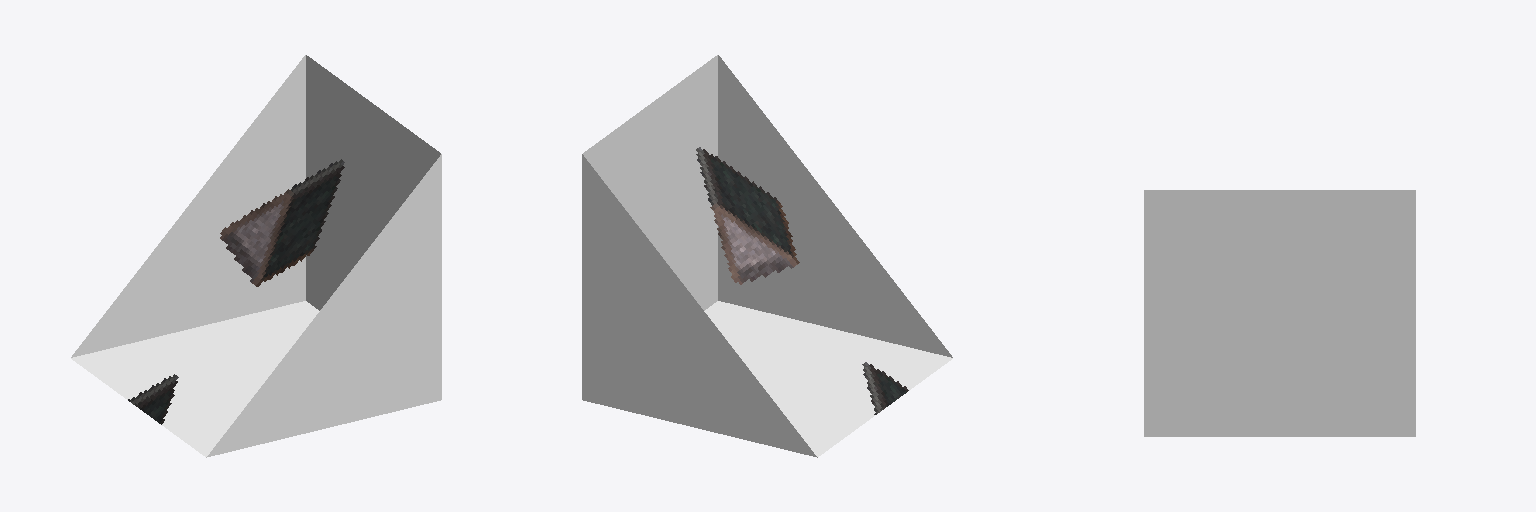
The picture shows the model from 3 angles: view 1: azimuth 30°, elevation 25°; view 2: azimuth 150°, elevation 25°; view 3: azimuth 270°, elevation 25°; orthographic projection.
Parts seen in each view (by area): view 1: roof-high-side; view 2: roof-high-side; view 3: roof-high-side.
Part boxes in pixels (bbox=[...]): roof-high-side: bbox=[71, 55, 441, 457]; roof-high-side: bbox=[582, 55, 952, 457]; roof-high-side: bbox=[1144, 190, 1415, 436].
Size of the model in its own units: 1 by 1 by 1.
3 materials, 1 textured.